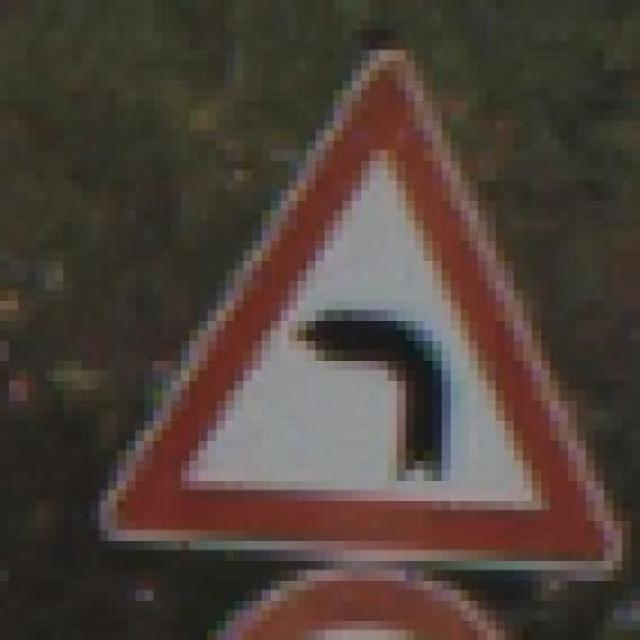Dangerous Left Curve Ahead: (80, 60, 632, 580)
